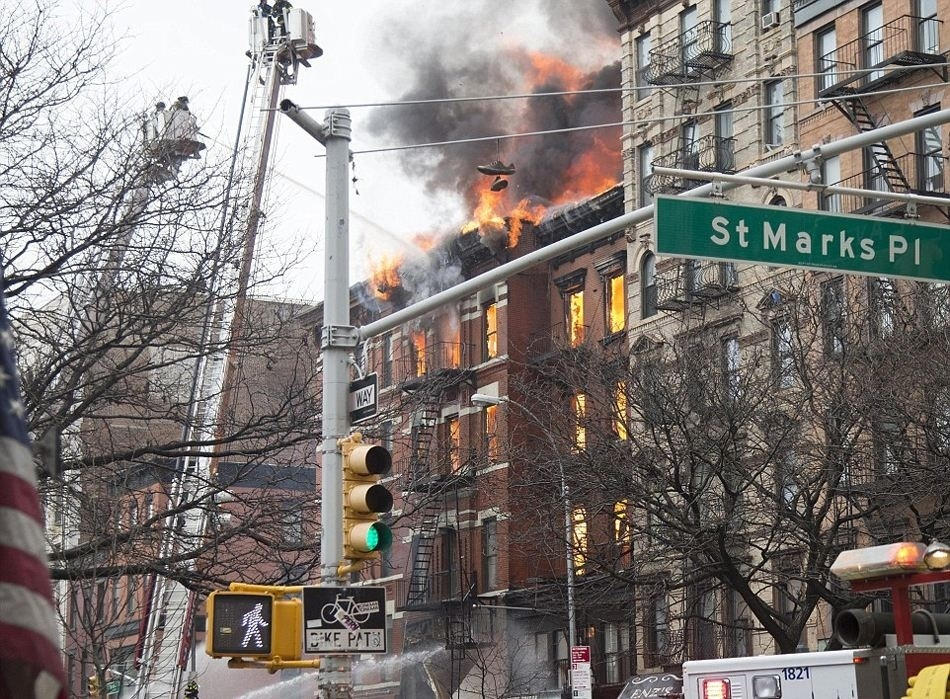fire: (468, 172, 542, 240), (364, 242, 404, 296), (410, 329, 428, 376), (893, 541, 918, 564)
